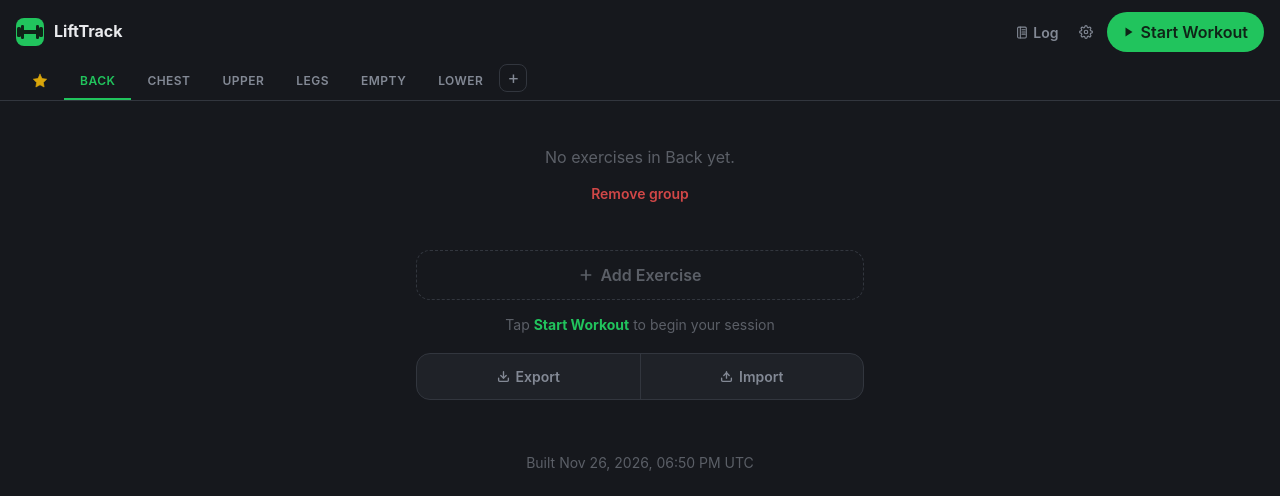
remove group › clicking cancel hides the confirmation
The image size is (1280, 496).
Click the button with test id "tab-empty" at (384, 82), box [345,64,422,100]
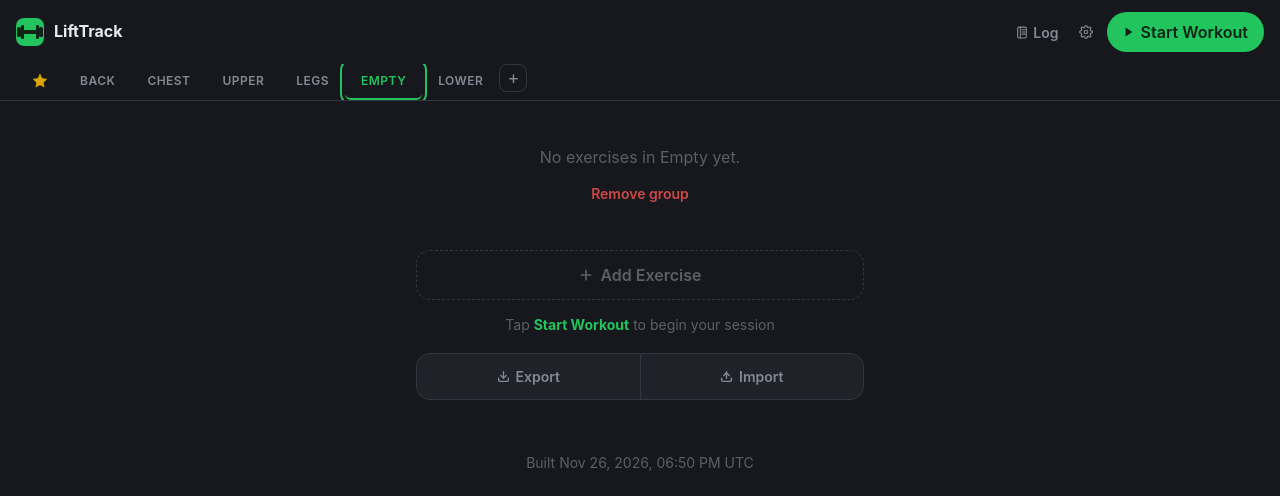
Click the button with test id "btn-remove-group" at (640, 194), box [591,183,689,204]
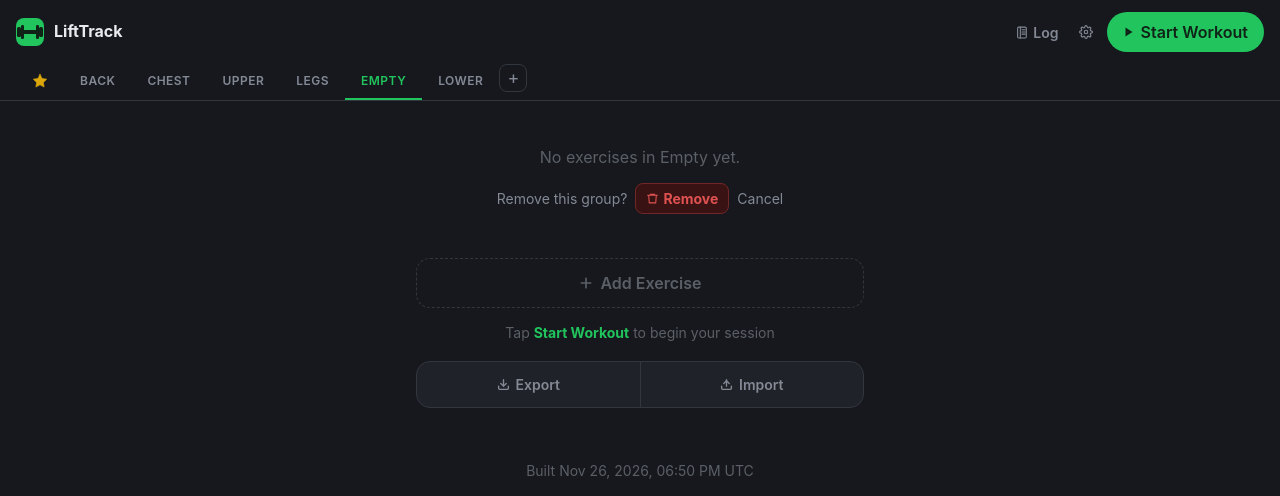
Click the button with test id "btn-remove-group-cancel" at (760, 198), box [737,188,783,209]
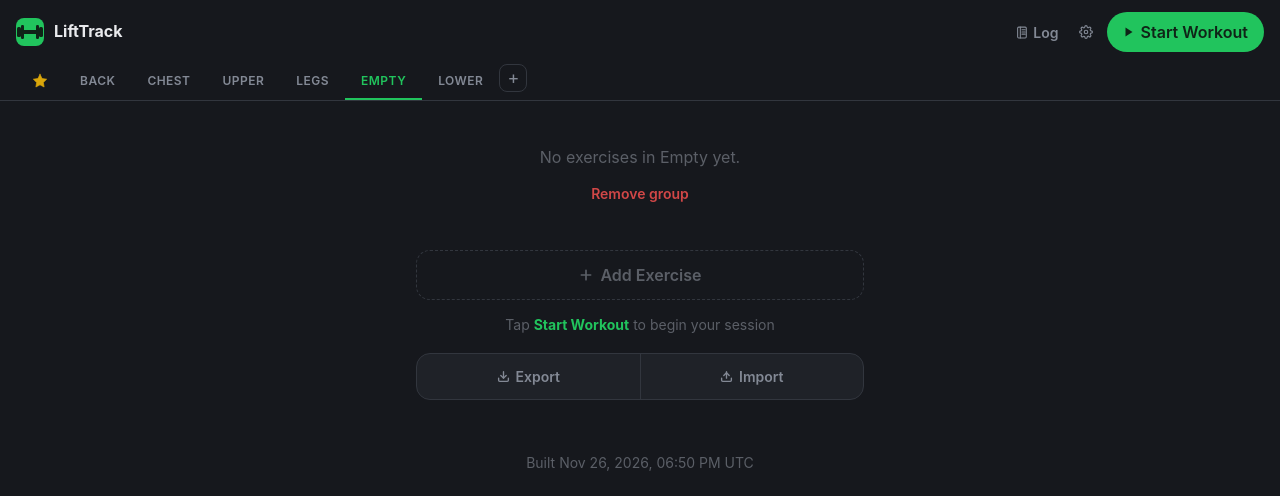
Now the button with test id "btn-remove-group-confirm" is gone
Now the button with test id "btn-remove-group" is shown, box [591,183,689,204]
